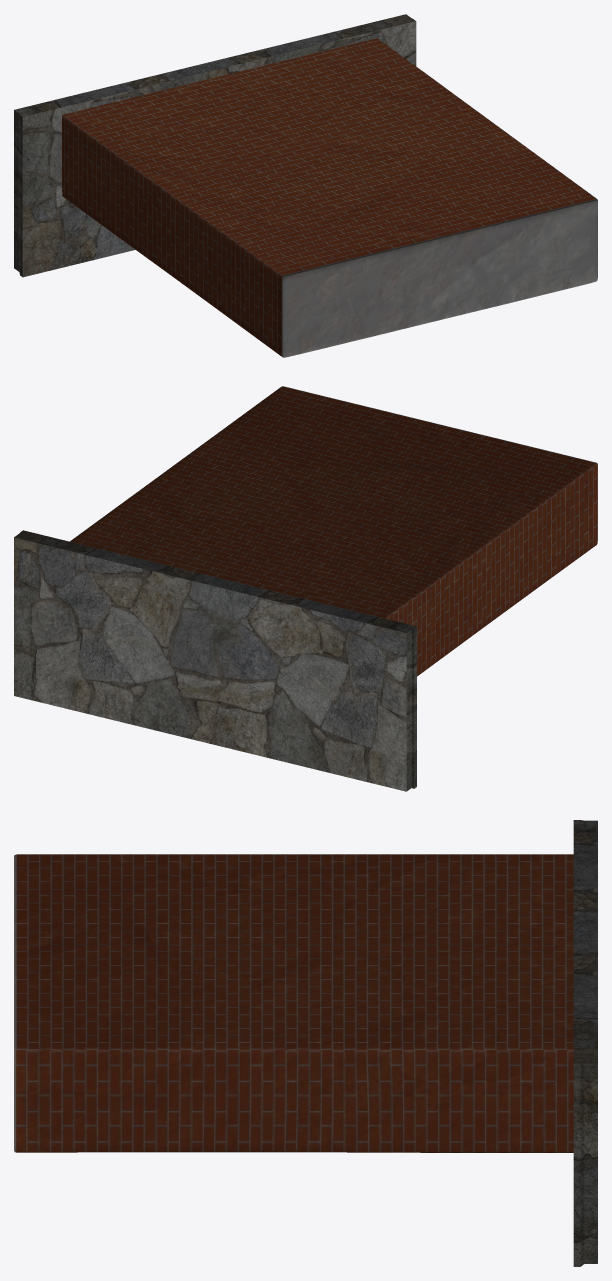
The model's file is 13111_fireplacebricks_v2_l2.obj.
The picture shows the model from 3 angles, top to bottom: view 1: azimuth 30°, elevation 25°; view 2: azimuth 150°, elevation 25°; view 3: azimuth 270°, elevation 25°; orthographic projection. The views are drawn at different scales.
Visible parts, largest first — view 1: 13111_fireplace_bricks, 13111_fireplace_bricks_floor; view 2: 13111_fireplace_bricks, 13111_fireplace_bricks_floor; view 3: 13111_fireplace_bricks, 13111_fireplace_bricks_floor.
Boxes of the visible parts, x1,y1,x2,y2 form: 13111_fireplace_bricks: (62, 38, 597, 357); 13111_fireplace_bricks_floor: (14, 14, 416, 277); 13111_fireplace_bricks: (70, 386, 597, 676); 13111_fireplace_bricks_floor: (14, 530, 416, 791); 13111_fireplace_bricks: (14, 854, 573, 1152); 13111_fireplace_bricks_floor: (573, 820, 597, 1266).
Bounding box in the file's own units: 98.04 × 38.19 × 99.38.
Materials: 4 (4 with a texture image).
